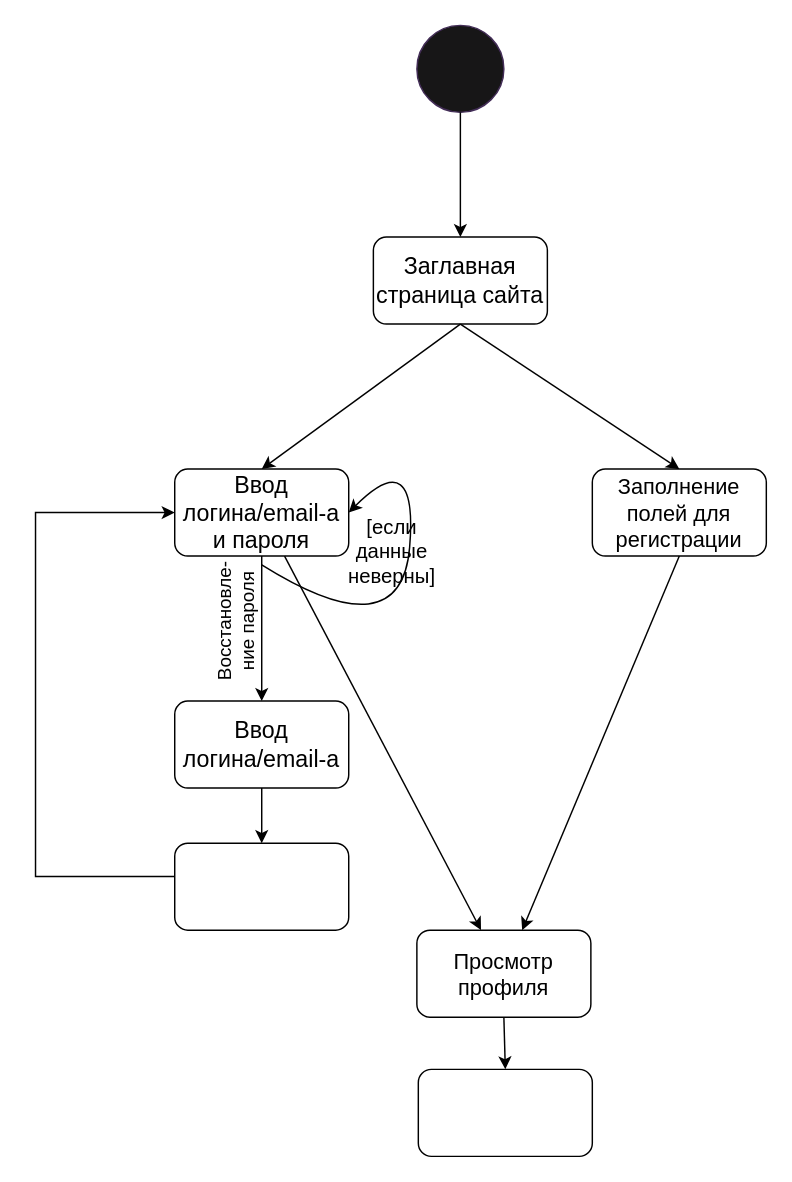
This 792x1182 diagram has some shape labels left out. The centre of each missing label's shape, as x and y in pixels:
"Ввод кода с почты" belongs at (261,886).
"Выход из системы" belongs at (504,1112).
